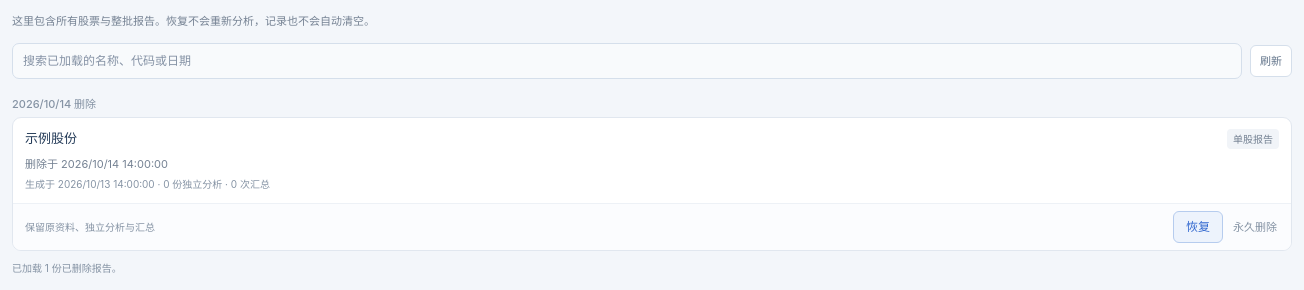
separates deletion time from report time, supports search and keeps restore primary
Check: the element with class "ai-library-card" shows "删除于", box [25,157,168,171]
Check: the element with class "ai-library-card" shows "生成于", box [25,178,270,190]
Type "不存在的股票" into the search field named "搜索回收站" at (627, 61), box [12,43,1242,79]
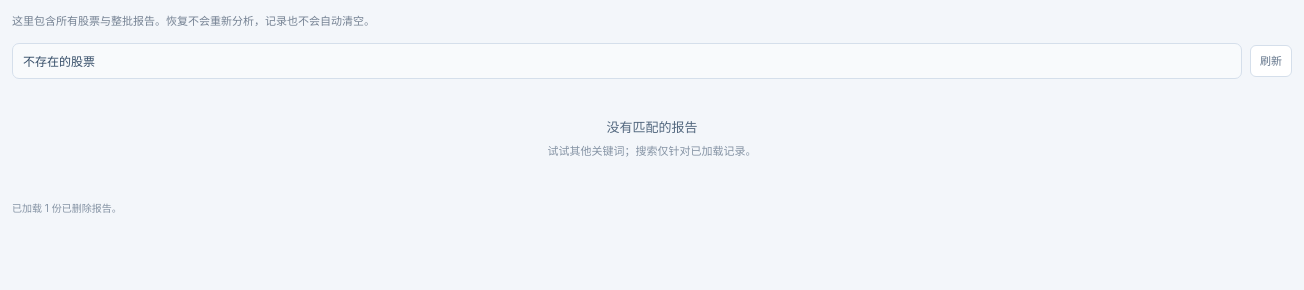
Check: the text "没有匹配的报告" is shown, box [606,119,698,135]
